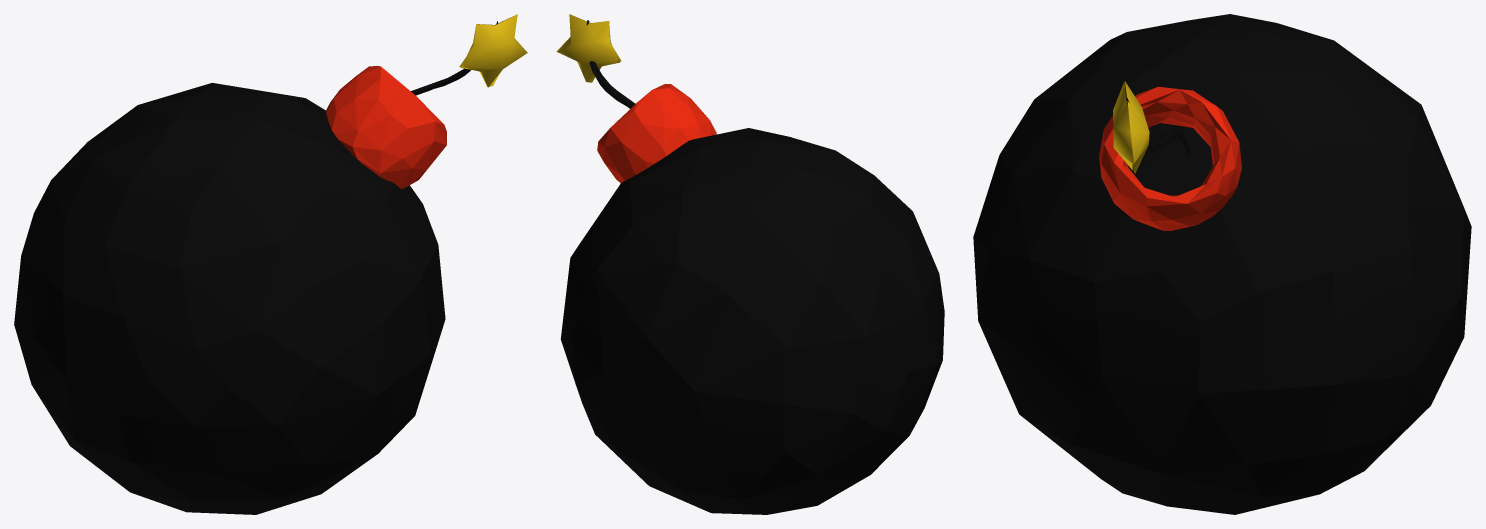
File: бомба цвет.fbx
3 renders of one model, left to right at view 1: azimuth 30°, elevation 25°; view 2: azimuth 150°, elevation 25°; view 3: azimuth 270°, elevation 25°, orthographic. The views are drawn at different scales.
Visible parts, largest first — view 1: Сфера, Тор, node_id42.001; view 2: Сфера, Тор, node_id42.001, Сфера.001; view 3: Сфера, Тор, node_id42.001.
Part boxes in pixels (x1=…): Сфера: x1=14, y1=82, x2=445, y2=514; Тор: x1=325, y1=65, x2=446, y2=188; node_id42.001: x1=459, y1=14, x2=527, y2=87; Сфера: x1=560, y1=128, x2=944, y2=514; Тор: x1=597, y1=84, x2=716, y2=183; node_id42.001: x1=556, y1=14, x2=621, y2=82; Сфера.001: x1=586, y1=20, x2=635, y2=108; Сфера: x1=973, y1=14, x2=1471, y2=514; Тор: x1=1099, y1=86, x2=1241, y2=230; node_id42.001: x1=1113, y1=81, x2=1149, y2=173.
Bounding box in the file's own units: 141 × 137 × 118.
